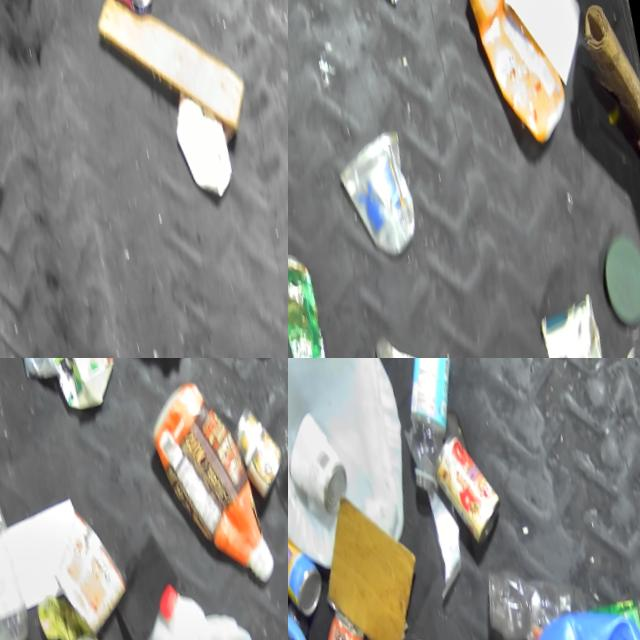can: (328, 108, 435, 279), (421, 417, 511, 548), (288, 401, 353, 517), (288, 235, 349, 358), (226, 391, 287, 486), (288, 523, 323, 607)
milk_jug: (288, 358, 429, 563), (120, 550, 272, 640)
non_white_jug: (137, 358, 286, 586), (458, 0, 578, 142), (288, 537, 354, 640)
plastic_bottle: (376, 358, 487, 495)
